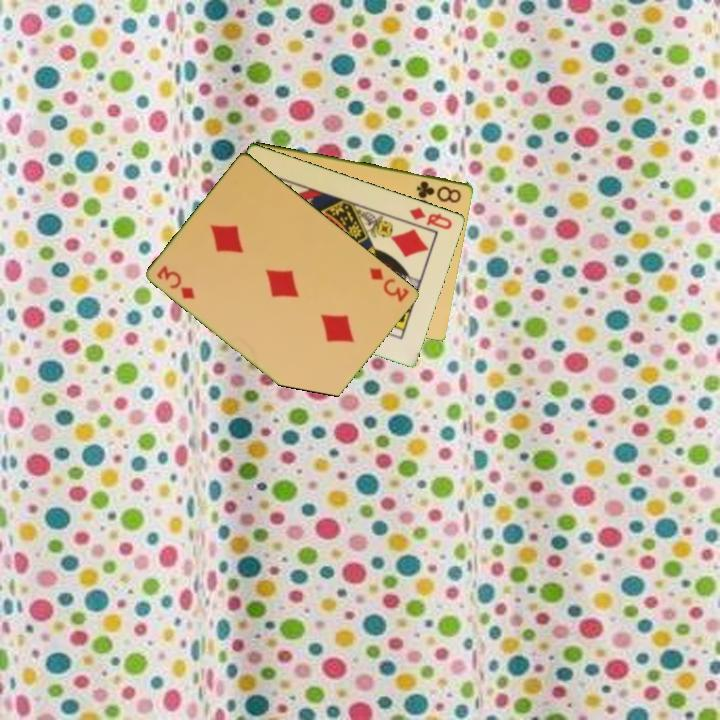3d: (366, 264, 412, 305), (153, 261, 198, 302)
8c: (413, 177, 465, 206)
Qd: (406, 204, 455, 232)
